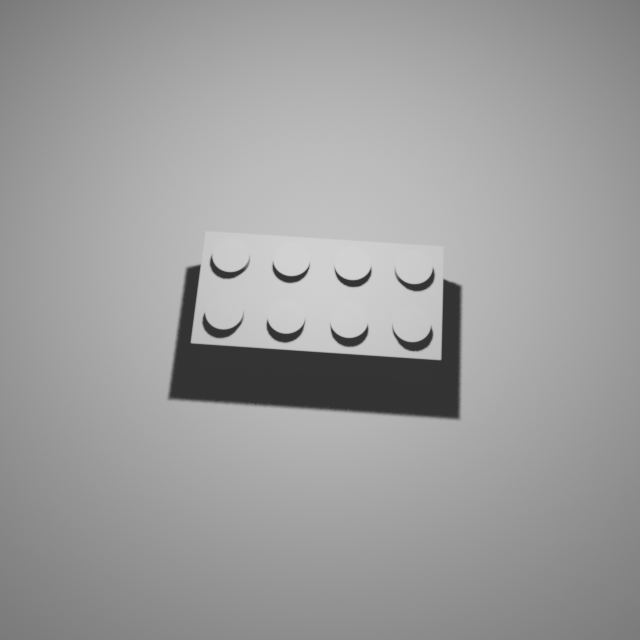lego_2x4: (189, 226, 445, 382)
